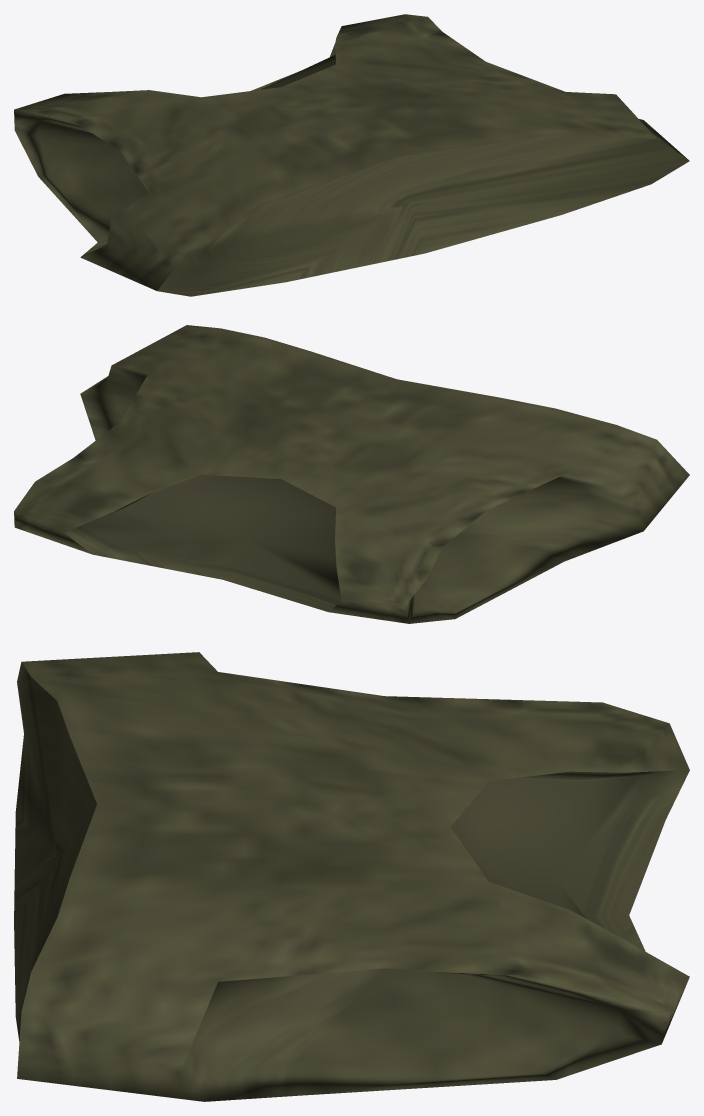
The model's file is PS5MVestGround.fbx.
The picture shows the model from 3 angles, top to bottom: view 1: azimuth 30°, elevation 25°; view 2: azimuth 150°, elevation 25°; view 3: azimuth 270°, elevation 25°; orthographic projection. The views are drawn at different scales.
Visible parts, largest first — view 1: PS5MVest; view 2: PS5MVest; view 3: PS5MVest.
Part boxes in pixels (x1,y1,x2,y2): PS5MVest: (14, 14, 689, 296); PS5MVest: (14, 325, 689, 623); PS5MVest: (14, 652, 689, 1101).
Size of the model in its own units: 0.2219 by 0.0308 by 0.1511.
